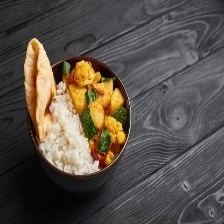sabzi: (61, 56, 136, 170)
